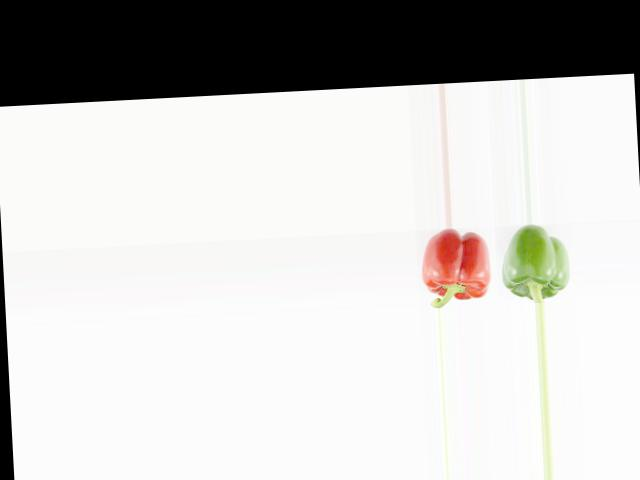bell_pepper: (497, 225, 573, 303)
